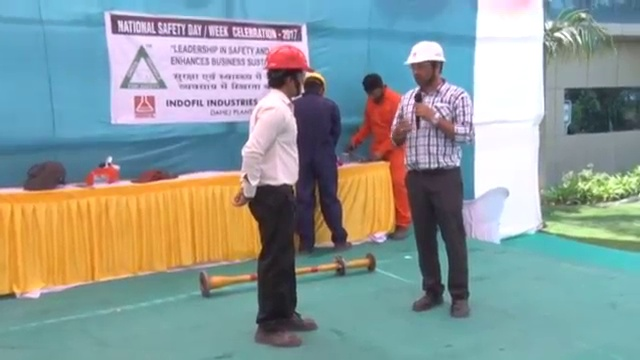helmet: (262, 44, 316, 74), (401, 39, 449, 67), (301, 67, 328, 88)
helmet_off: (361, 71, 388, 105)
helmet_on: (261, 44, 316, 99), (400, 39, 450, 94), (299, 65, 328, 100)
person: (229, 44, 320, 350), (387, 39, 474, 319), (296, 66, 356, 253), (349, 71, 414, 239)
